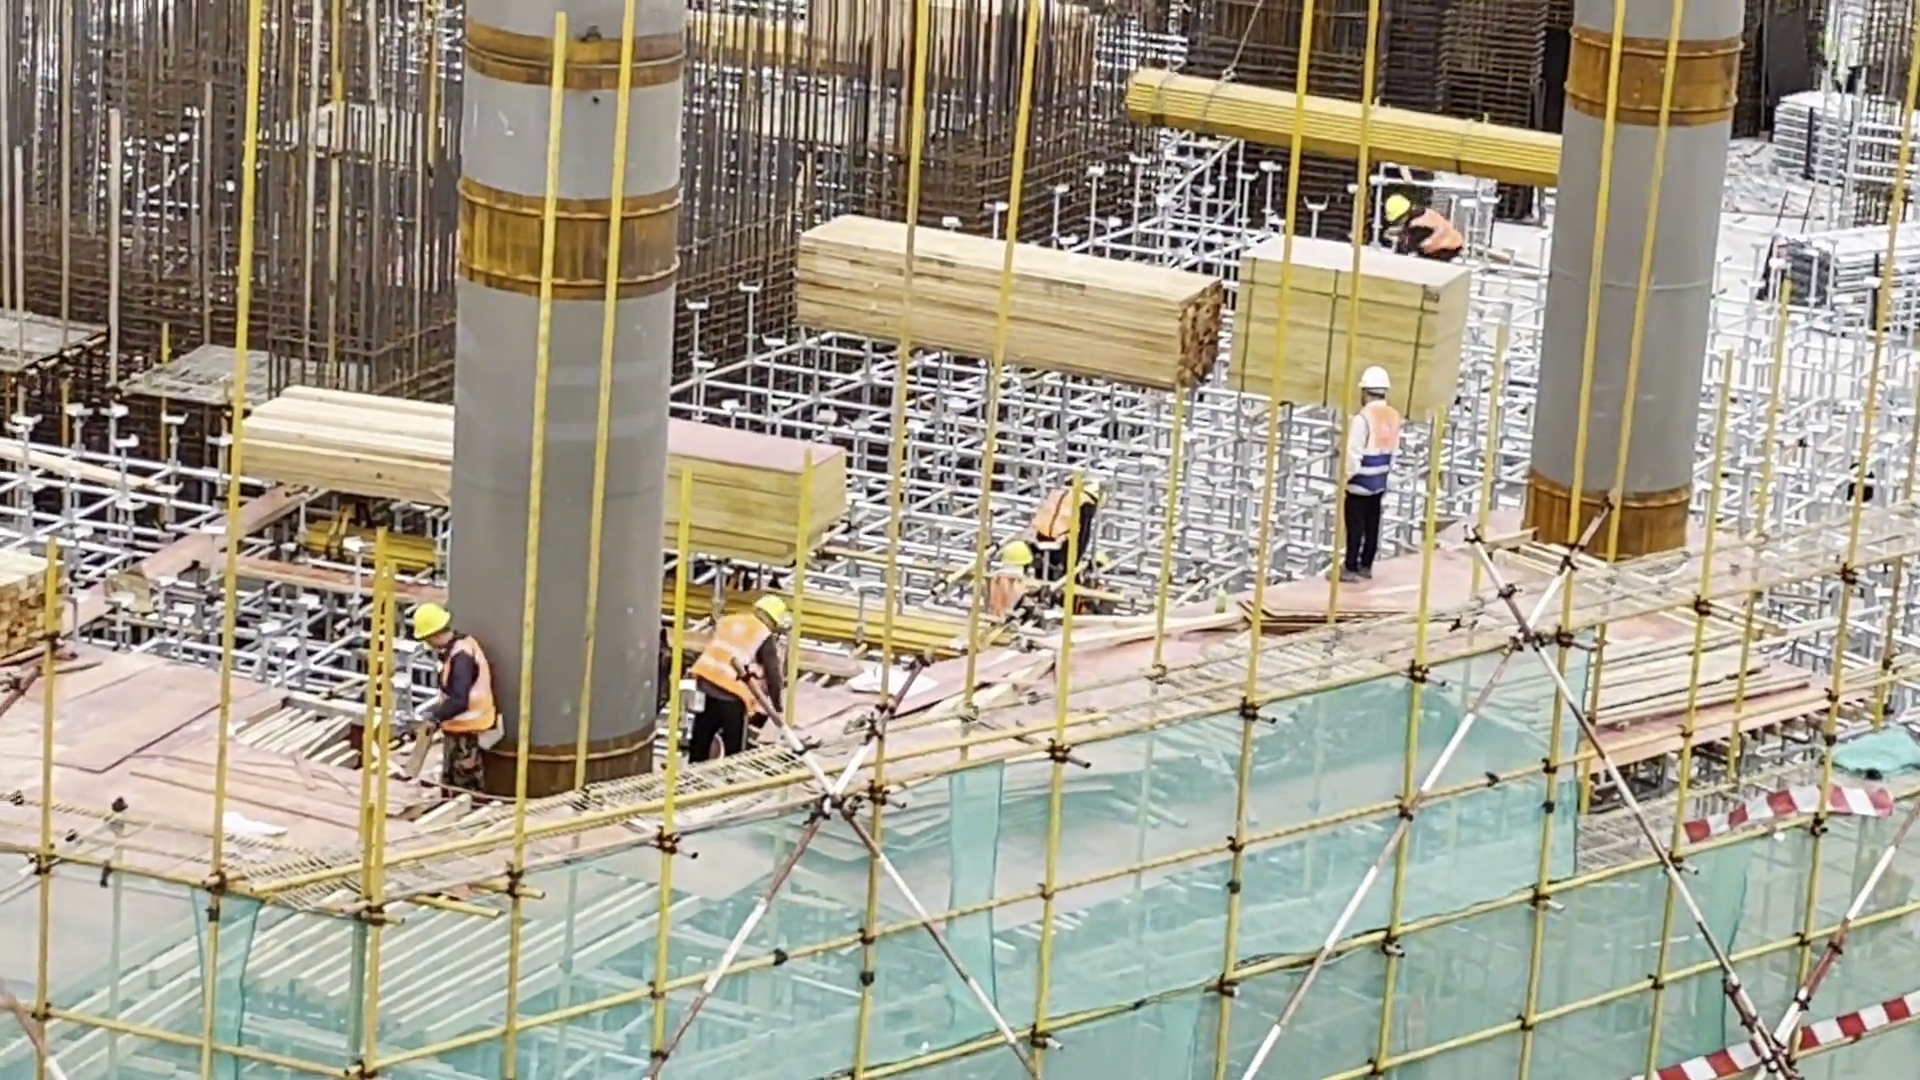helmet: (398, 593, 456, 650), (1352, 359, 1410, 414), (746, 586, 798, 630), (1368, 179, 1413, 228), (988, 537, 1031, 578)
person: (390, 598, 508, 777), (685, 591, 794, 748), (1342, 365, 1404, 581), (1016, 478, 1111, 578), (1385, 184, 1475, 270), (1383, 182, 1473, 268)
scaffold: (1780, 222, 1920, 333), (1771, 92, 1914, 184)
vest: (425, 655, 495, 731), (701, 620, 766, 690), (1347, 412, 1395, 498), (1048, 492, 1099, 548), (1404, 217, 1464, 252), (992, 583, 1030, 611)
wood: (784, 207, 1221, 396), (1, 558, 62, 653)
